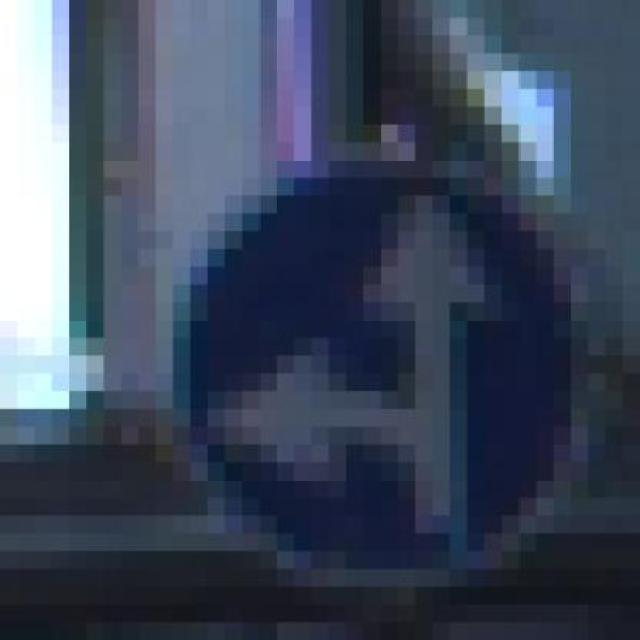Go straight or turn left: (138, 106, 605, 605)
